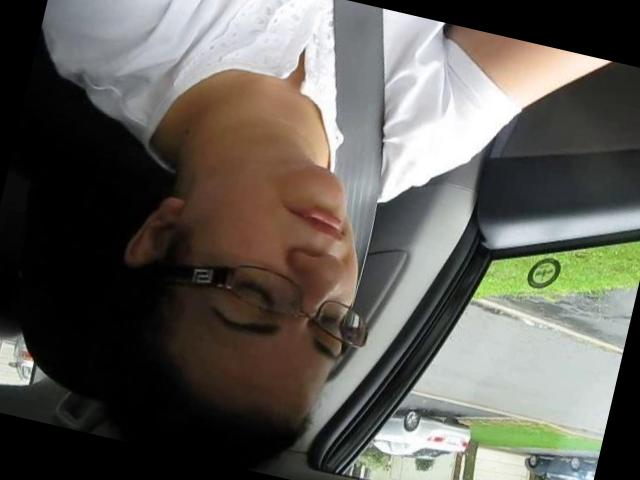eye_closed: (224, 264, 294, 316), (311, 301, 349, 336)
face: (166, 138, 387, 383)
